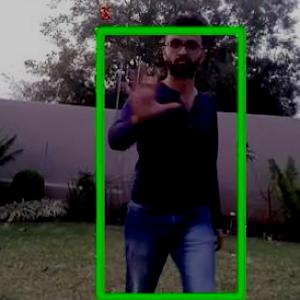follow_hand: (119, 55, 184, 125)
